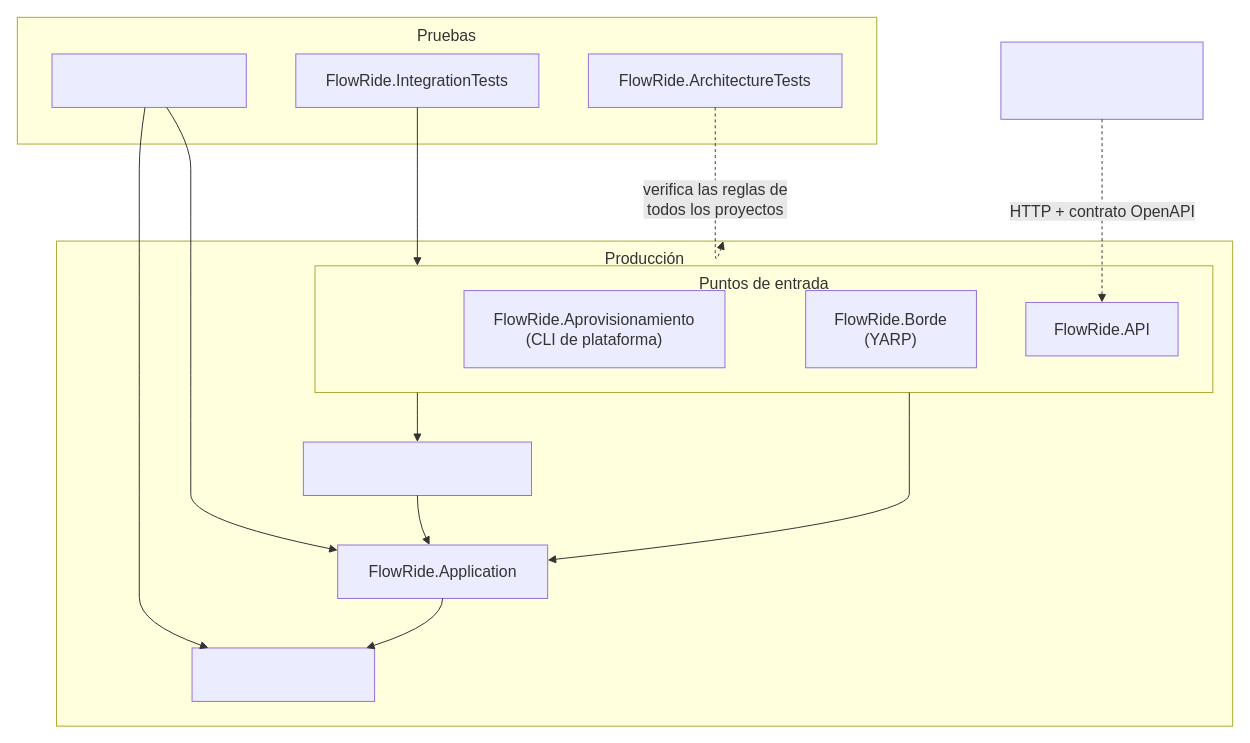
The diagram is 1250 pixels wide and 743 high, and some of its shapes have lost their labels. Here are the shapes that lost their labels. From the top down, the centre of each, then its label:
At [148,80]: "FlowRide.UnitTests".
At [1101,80]: "web/ — Panel Web (React + TypeScript)".
At [417,468]: "FlowRide.Infrastructure".
At [283,674]: "FlowRide.Domain".
